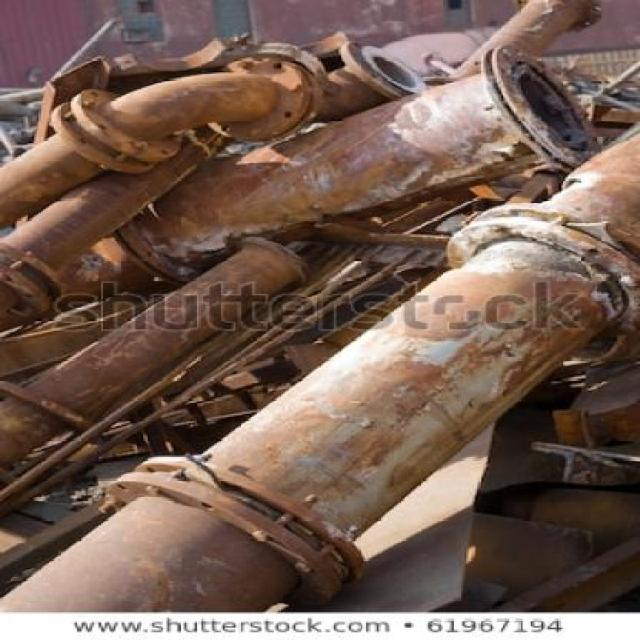corrosion: (0, 32, 638, 607)
